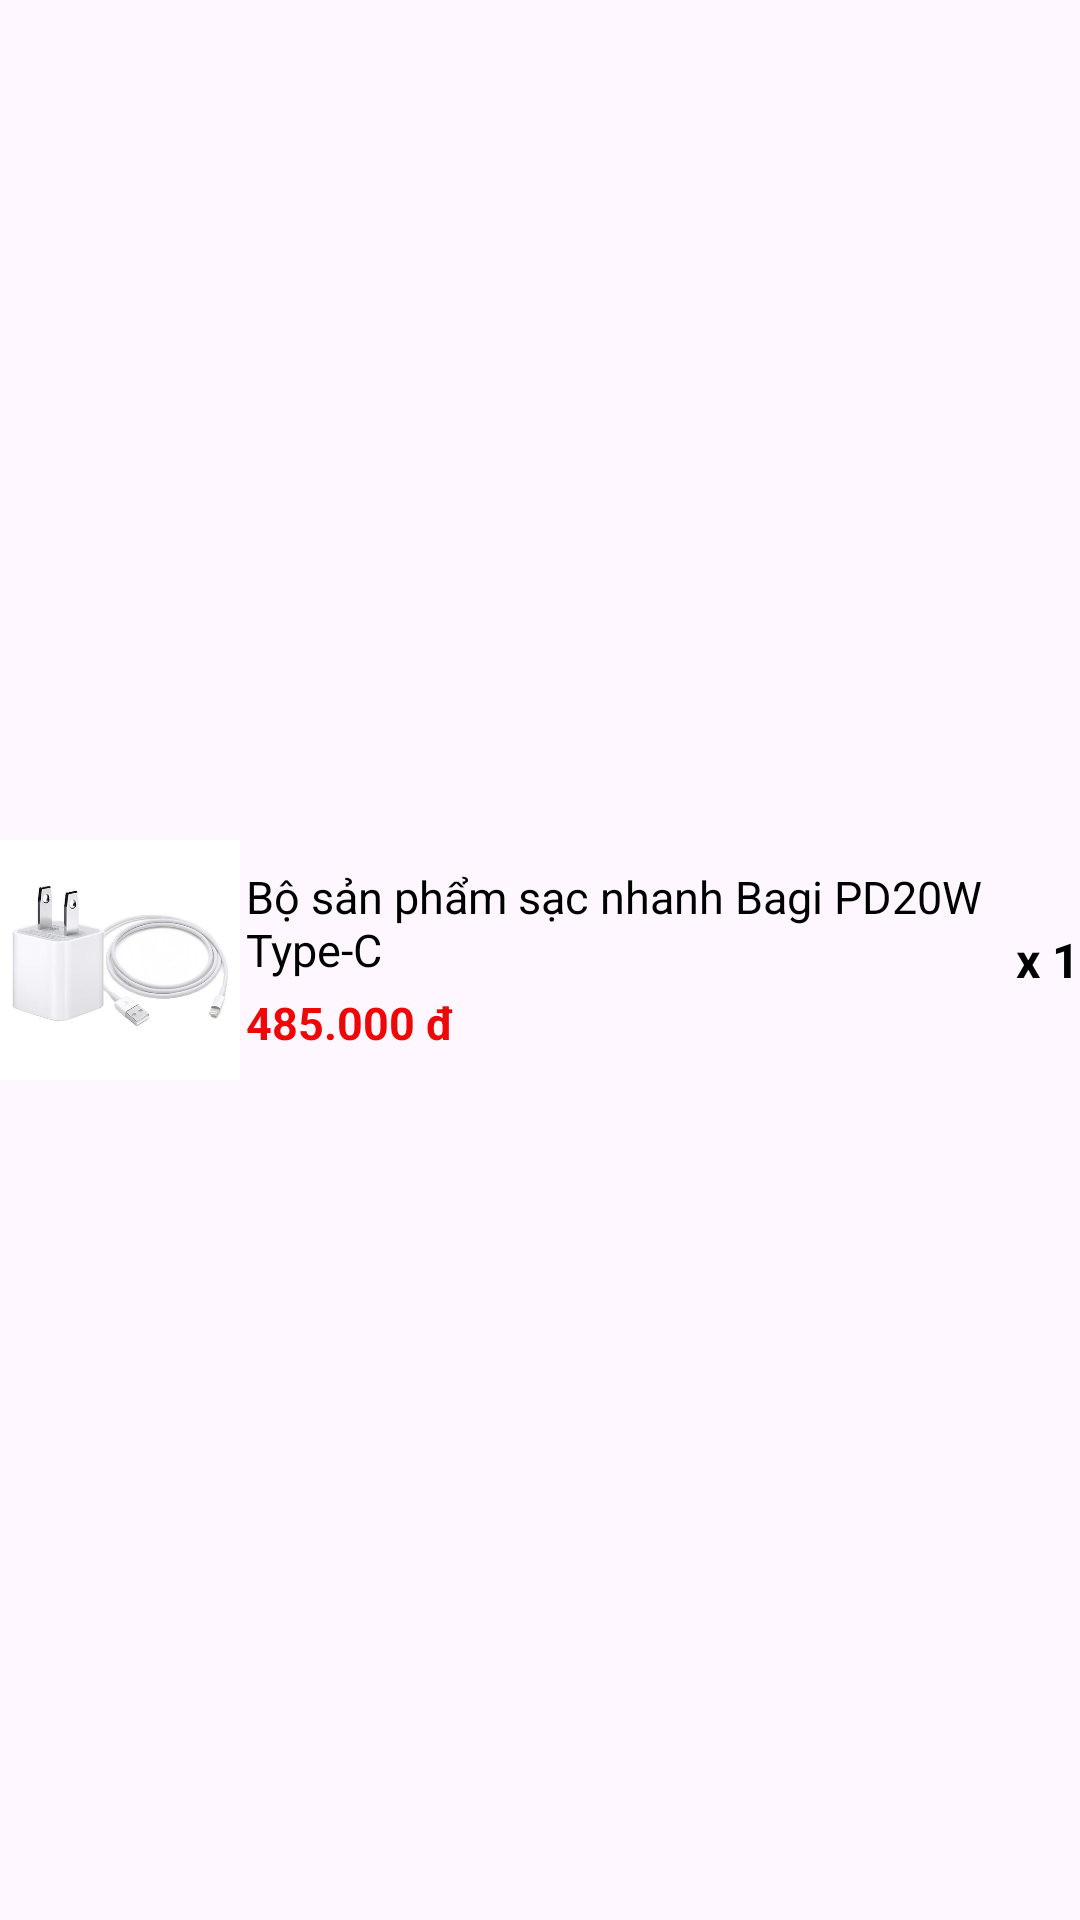

Screen size 1080×1920. Icon name, then its center in pixels as point (x, y):
cusac: point (120, 956)
